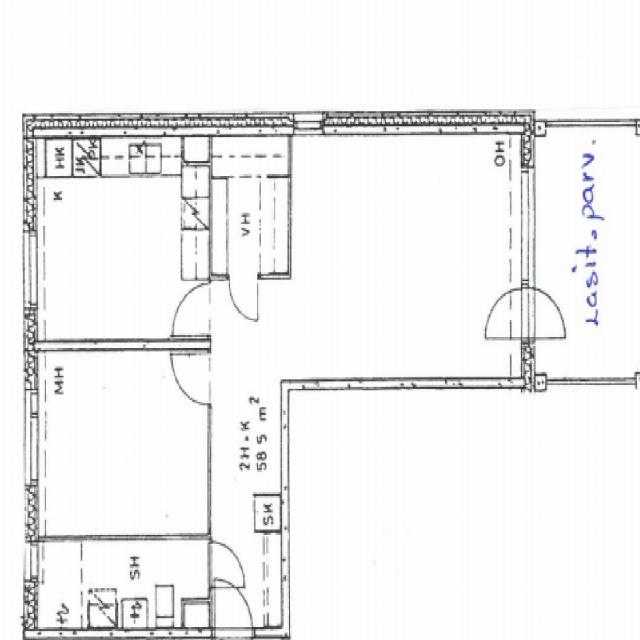door: (486, 290, 535, 338), (521, 290, 570, 338), (214, 577, 252, 637), (172, 283, 212, 336), (172, 354, 212, 405), (209, 543, 244, 586), (229, 275, 257, 319), (214, 627, 251, 640)
